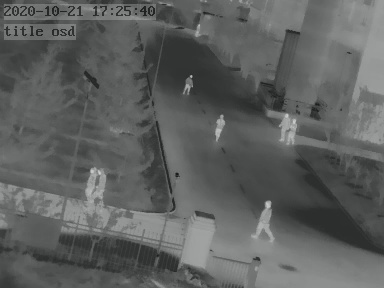person: (254, 197, 274, 240), (96, 168, 107, 204), (84, 166, 95, 202), (213, 113, 225, 141), (288, 119, 299, 146), (182, 72, 193, 95), (279, 114, 288, 141), (194, 23, 201, 36)
